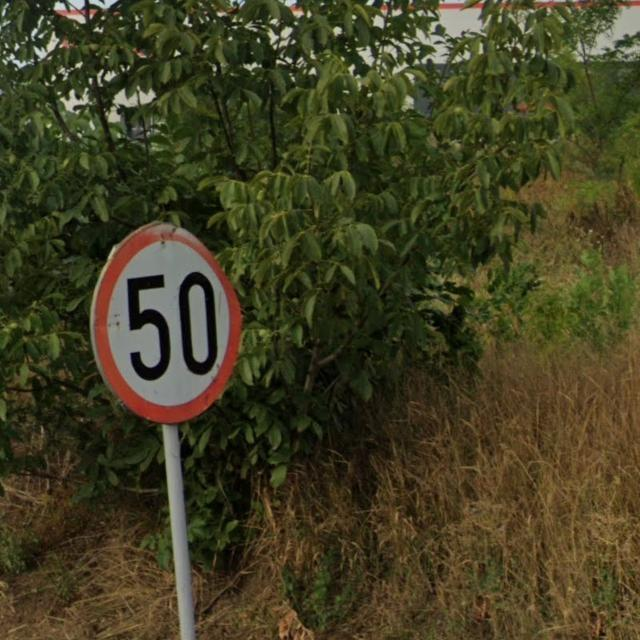forb_speed_over_50: (84, 217, 246, 424)
